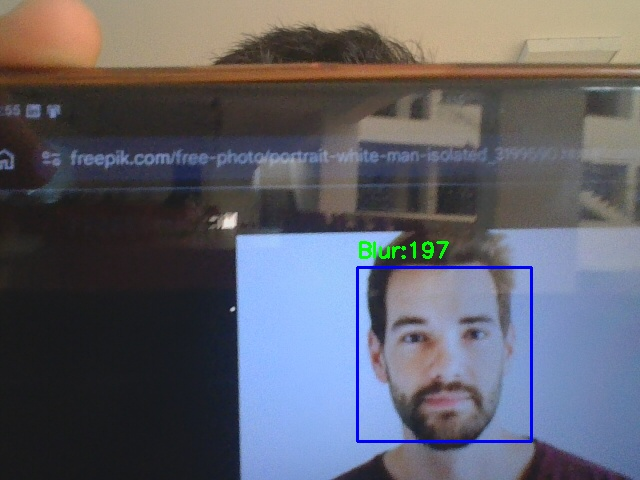fake: (357, 267, 531, 441)
